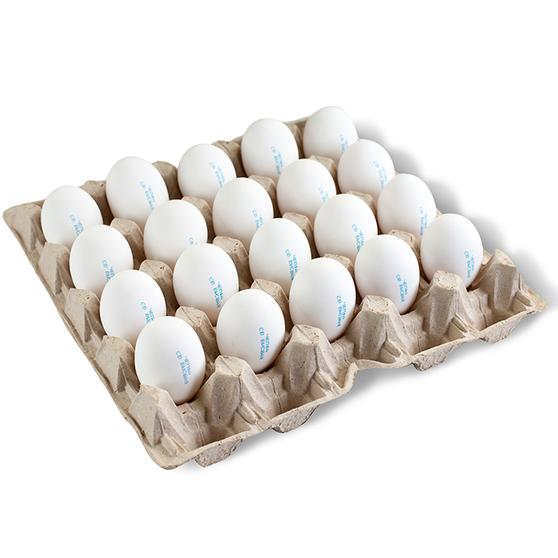egg: (133, 314, 208, 396), (214, 287, 287, 364), (290, 255, 356, 340), (415, 215, 483, 285), (360, 237, 420, 309)
